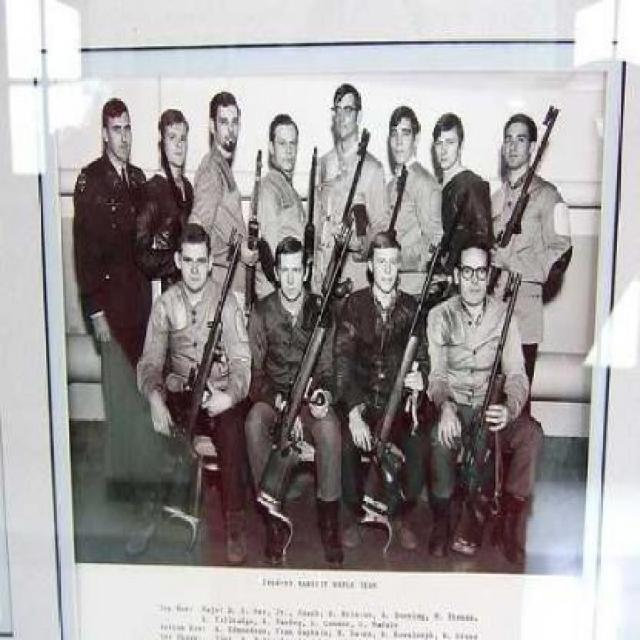weapon: (261, 229, 356, 507), (453, 269, 528, 506), (376, 230, 444, 487), (372, 246, 446, 471), (190, 234, 248, 496), (492, 108, 566, 240), (298, 146, 329, 292), (343, 125, 374, 227), (386, 156, 414, 242)
